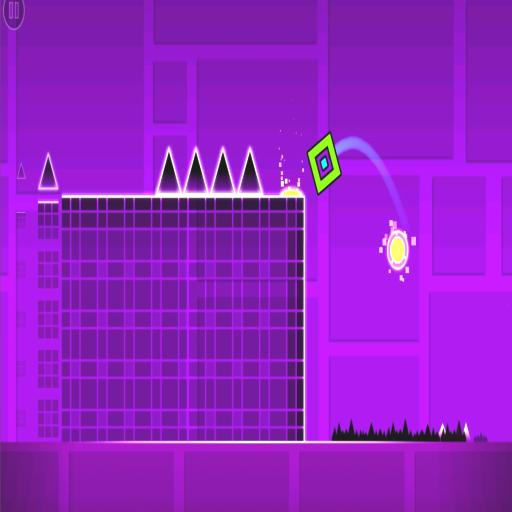block: (59, 192, 308, 448), (34, 200, 62, 242), (35, 398, 60, 442), (36, 249, 59, 291), (34, 304, 60, 339), (38, 346, 58, 389), (12, 354, 28, 382), (15, 207, 27, 235), (14, 262, 28, 282), (14, 314, 28, 332)
player: (308, 131, 341, 195)
spike: (238, 147, 262, 195), (157, 147, 181, 192), (211, 147, 234, 193), (185, 148, 207, 192), (39, 154, 58, 189), (17, 163, 25, 179), (464, 423, 470, 439), (439, 423, 445, 437)
